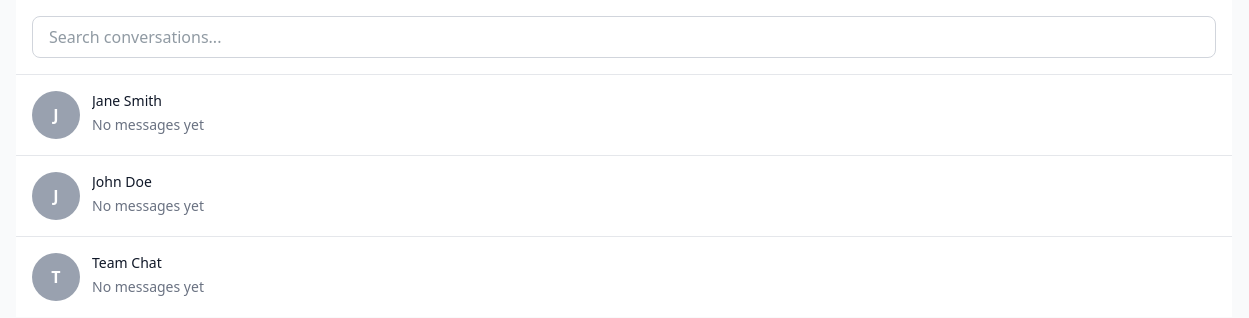
Scenario: ConversationList › Search and filter › filters conversations based on search query
This screenshot has width=1249, height=318.
Type "John" into the field with placeholder "Search conversations..." at (624, 37), box [32, 16, 1216, 58]
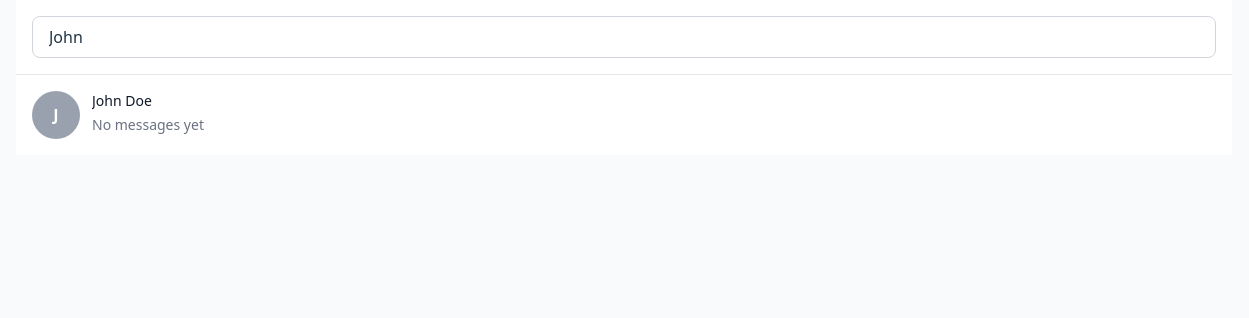
expect the heading "John Doe" is shown: met, box [92, 91, 152, 111]
expect the button "Team Chat" is gone: met
expect the button "Jane Smith" is gone: met
